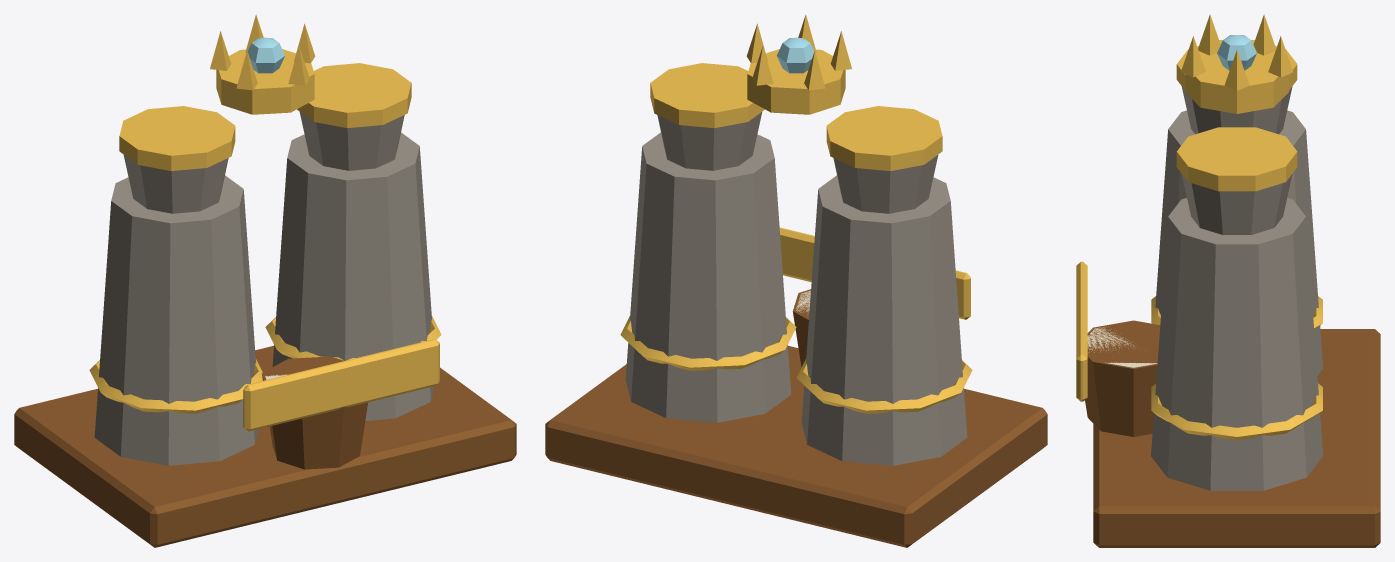
The model's file is PR_Station_Sut_T3.fbx.
3 renders of one model, left to right at view 1: azimuth 30°, elevation 25°; view 2: azimuth 150°, elevation 25°; view 3: azimuth 270°, elevation 25°, orthographic.
Parts seen in each view (by area): view 1: PR_Station_Sut_T3; view 2: PR_Station_Sut_T3; view 3: PR_Station_Sut_T3.
Boxes of the visible parts, x1,y1,x2,y2 form: PR_Station_Sut_T3: (14, 14, 516, 547); PR_Station_Sut_T3: (545, 14, 1047, 547); PR_Station_Sut_T3: (1076, 14, 1380, 547).
Size of the model in its own units: 0.75 by 0.825 by 0.53.
